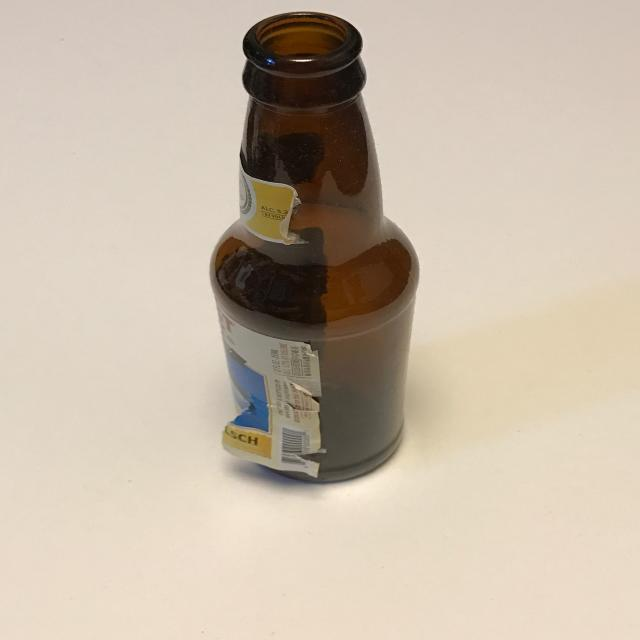glass: (206, 10, 406, 488)
